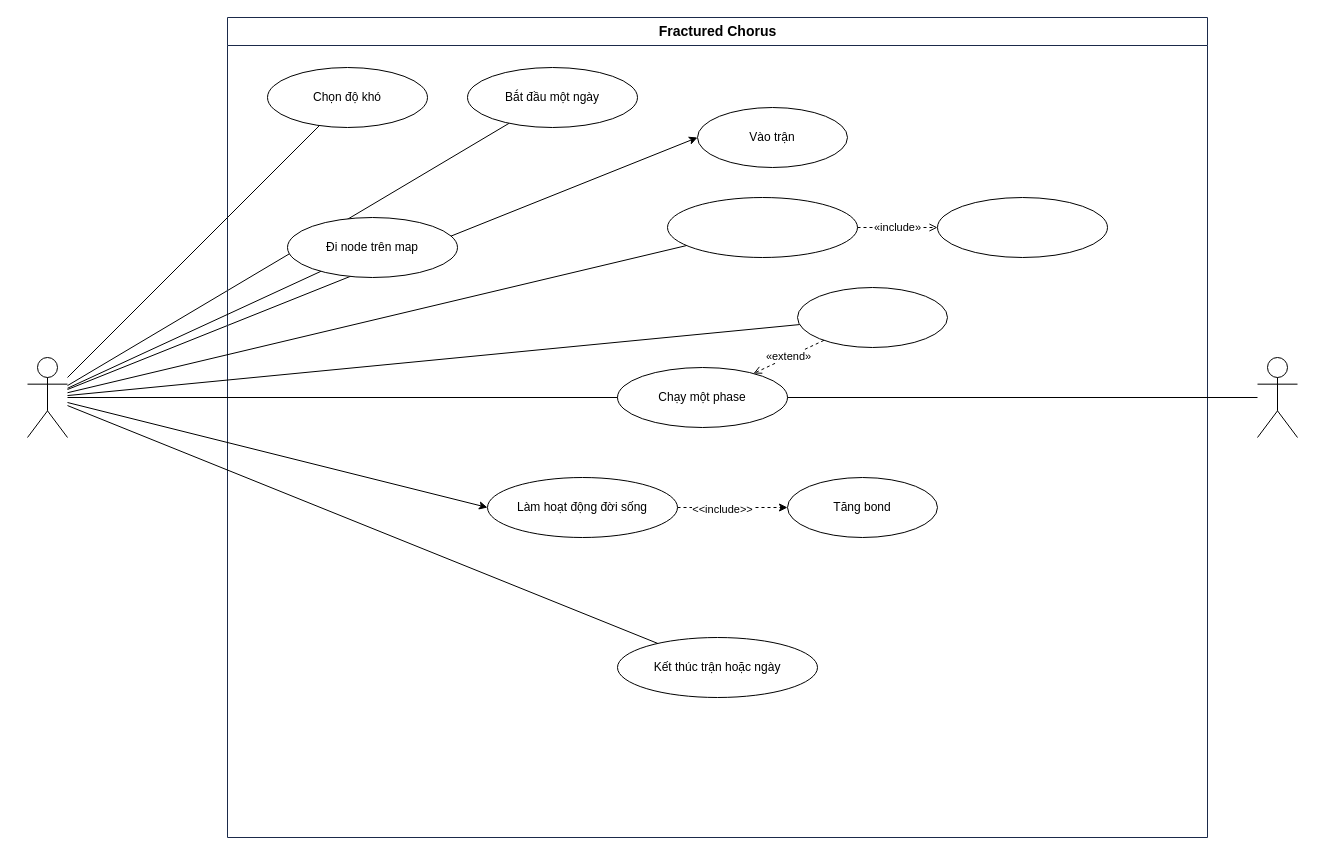
This 1331x855 diagram has some shape labels left out. The shapes that lost their labels are listed below. From the top down, each one's centre as x and y in pixels, then its label:
At pixel 762 227: "Suy nghĩ trong planning".
At pixel 1022 227: "Kiểm tra footprint".
At pixel 872 317: "Đỡ đúng lúc".
At pixel 47 397: "Người chơi".
At pixel 1277 397: "Timeline Beat".
